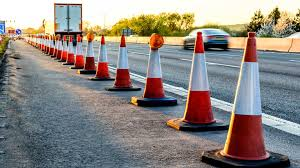car: (183, 28, 230, 49)
cone: (201, 31, 292, 167), (167, 31, 232, 131), (130, 33, 179, 107), (105, 36, 141, 92), (89, 34, 116, 81), (79, 35, 100, 75), (70, 36, 87, 70), (62, 37, 78, 66), (57, 37, 69, 63)
